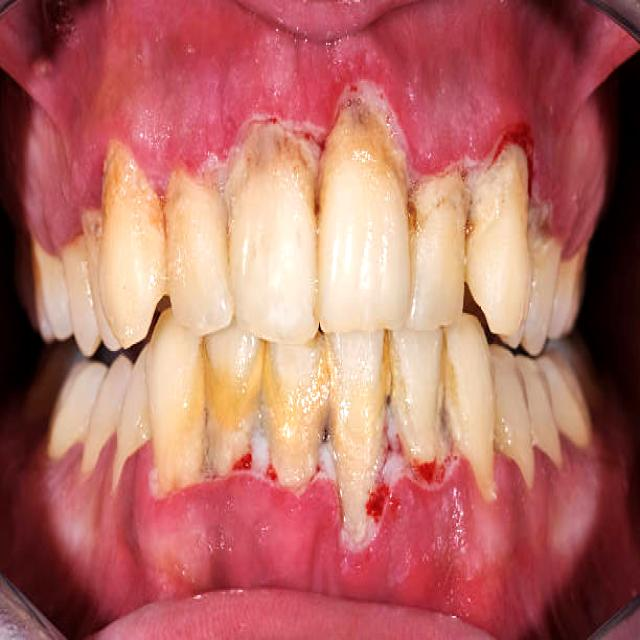calculus: (333, 378, 381, 540), (207, 352, 263, 470), (225, 126, 316, 196), (267, 384, 325, 489), (473, 141, 526, 233), (104, 143, 161, 225), (325, 114, 405, 167), (442, 335, 460, 452), (188, 346, 204, 471), (166, 169, 219, 203), (413, 174, 467, 205), (385, 334, 397, 440)
gingivitis: (66, 69, 168, 151), (133, 513, 215, 590)
